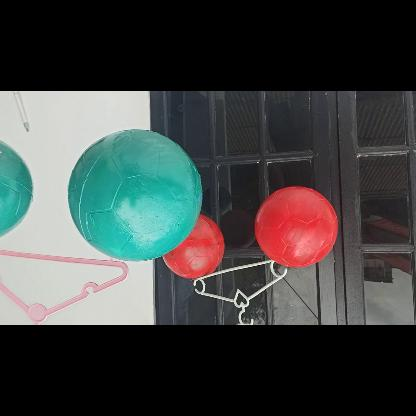red_ball: (256, 186, 338, 268)
